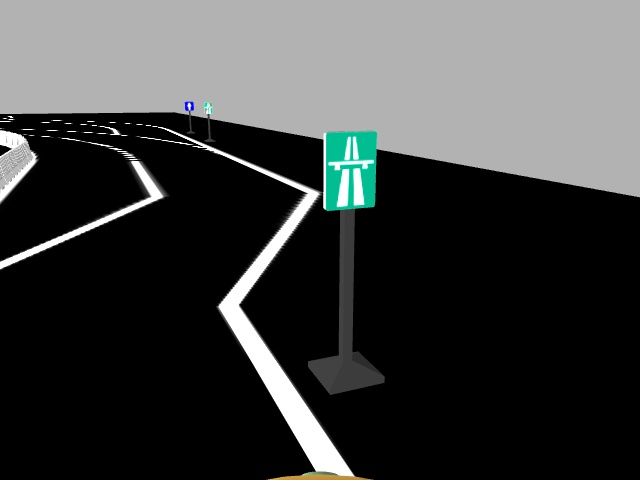HighwayEntrance: (319, 129, 377, 207)
